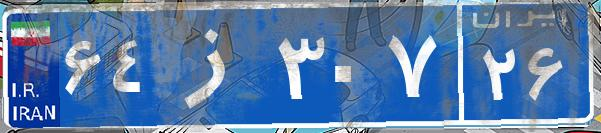0: (330, 28, 385, 110)
2: (475, 38, 525, 113)
3: (273, 28, 330, 110)
4: (110, 28, 158, 105)
6: (57, 26, 110, 107), (525, 38, 570, 115)
7: (385, 28, 445, 110)
ز: (158, 15, 273, 115)
